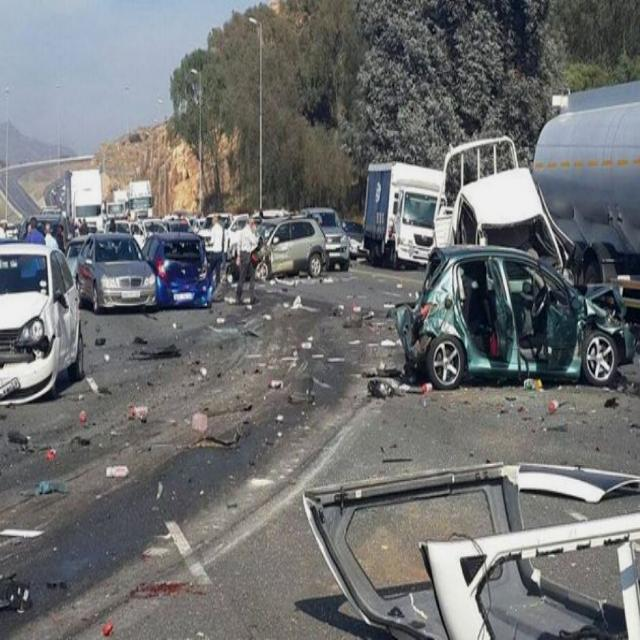accident: (302, 250, 640, 640), (394, 78, 640, 388), (74, 230, 216, 312)
non-accident: (225, 206, 352, 278), (68, 170, 154, 236)
